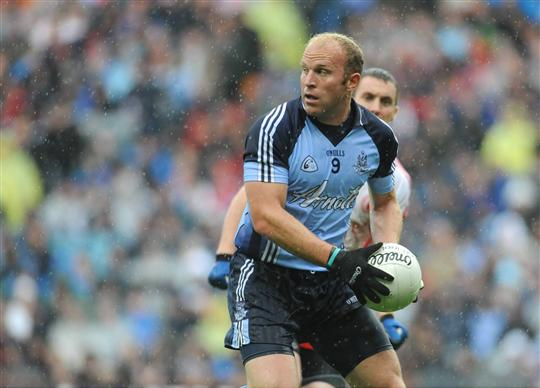ball: (356, 243, 432, 313)
player: (240, 24, 409, 363)
